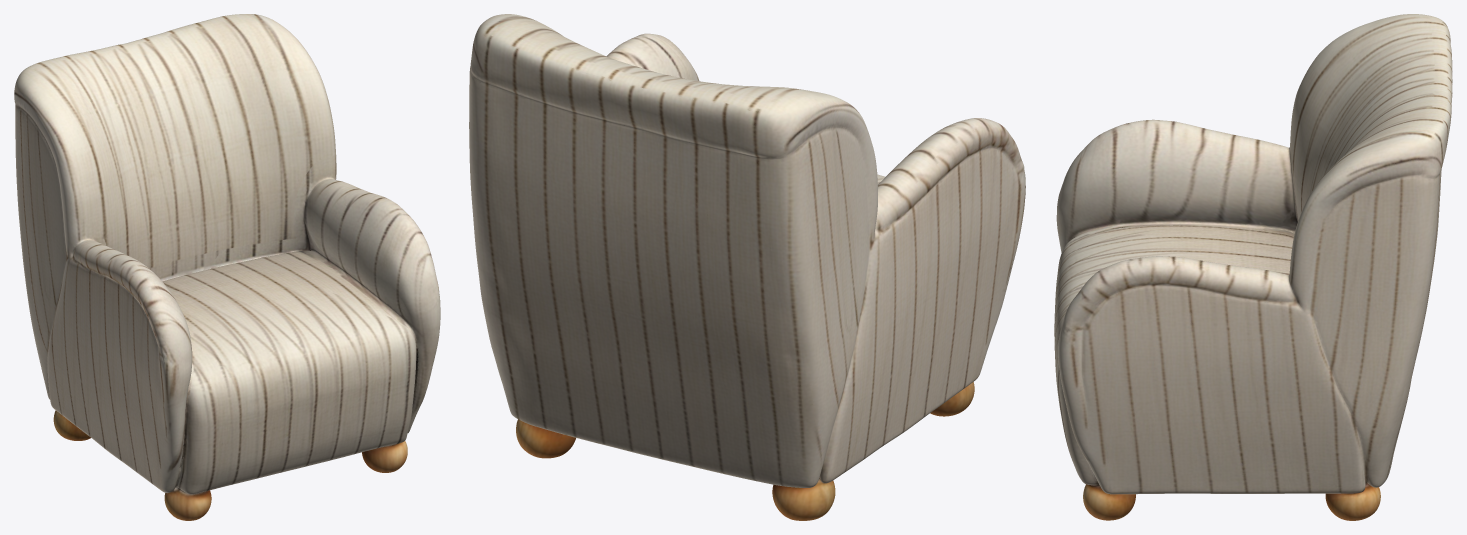
The model's file is product-farmhouse-bun-foot-accent-chair-charcoal-fritz-03.glb.
3 renders of one model, left to right at view 1: azimuth 30°, elevation 25°; view 2: azimuth 150°, elevation 25°; view 3: azimuth 270°, elevation 25°, orthographic. The views are drawn at different scales.
Visible parts, largest first — view 1: geometry_0; view 2: geometry_0; view 3: geometry_0.
Boxes of the visible parts, x1,y1,x2,y2 form: geometry_0: (14,14,440,520); geometry_0: (469,14,1025,520); geometry_0: (1054,14,1452,520).
Bounding box in the file's own units: 1.65 × 1.97 × 1.83.
1 material, 1 textured.
